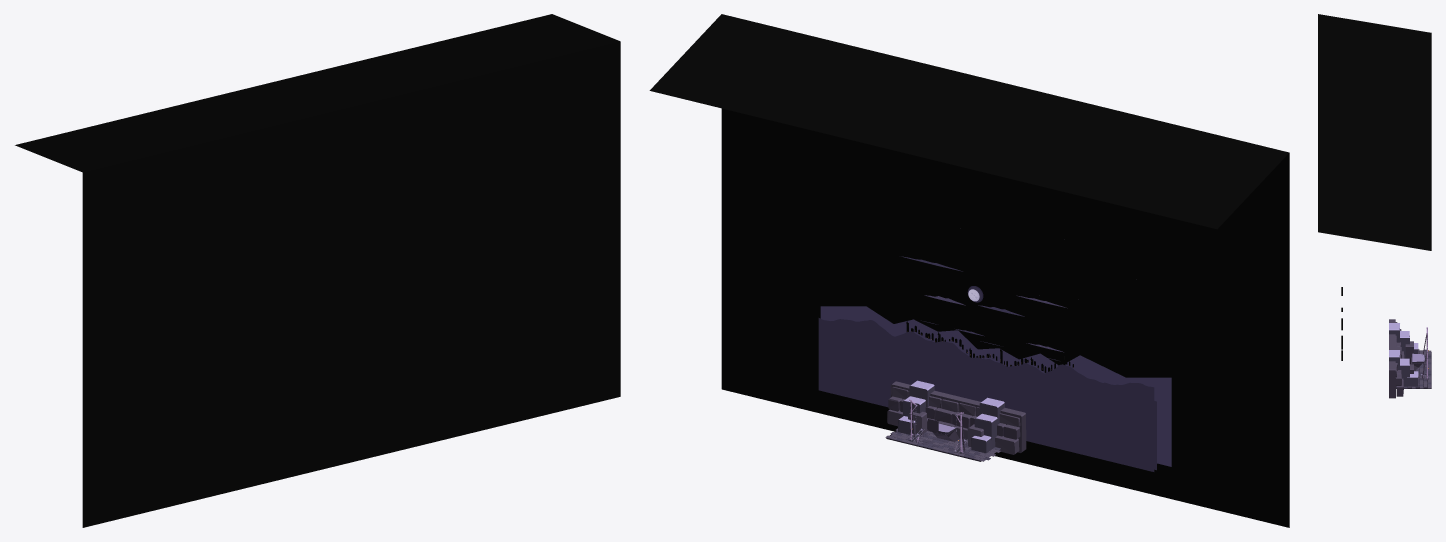
File: StoneCg_v3n.fbx
3 renders of one model, left to right at view 1: azimuth 30°, elevation 25°; view 2: azimuth 150°, elevation 25°; view 3: azimuth 270°, elevation 25°, orthographic. The views are drawn at different scales.
Visible parts, largest first — view 1: far_sky, far_sky_overhead; view 2: far_sky, far_sky_overhead, city_foreground_hill, far_ridge_back, floor_pavers, mid_wall_recess; view 3: far_sky_overhead, floor_pavers, mid_wall_recess, mid_shoulder_left_1, mid_shoulder_right_1, mid_shoulder_right_0, mid_shoulder_left_2, mid_shoulder_left_0.
Boxes of the visible parts, x1=… form: far_sky: x1=82, y1=41, x2=620, y2=527; far_sky_overhead: x1=15, y1=14, x2=619, y2=172; far_sky: x1=721, y1=108, x2=1289, y2=527; far_sky_overhead: x1=649, y1=14, x2=1289, y2=229; city_foreground_hill: x1=818, y1=318, x2=1154, y2=471; far_ridge_back: x1=820, y1=306, x2=1171, y2=466; floor_pavers: x1=885, y1=428, x2=1000, y2=461; mid_wall_recess: x1=890, y1=381, x2=1026, y2=452; far_sky_overhead: x1=1318, y1=14, x2=1431, y2=250; floor_pavers: x1=1404, y1=349, x2=1431, y2=388; mid_wall_recess: x1=1389, y1=319, x2=1395, y2=398; mid_shoulder_left_1: x1=1398, y1=358, x2=1409, y2=386; mid_shoulder_right_1: x1=1400, y1=331, x2=1409, y2=358; mid_shoulder_right_0: x1=1389, y1=323, x2=1399, y2=342; mid_shoulder_left_2: x1=1407, y1=371, x2=1418, y2=386; mid_shoulder_left_0: x1=1389, y1=350, x2=1399, y2=388.
Size of the model in its own units: 372 by 235 by 82.03.
